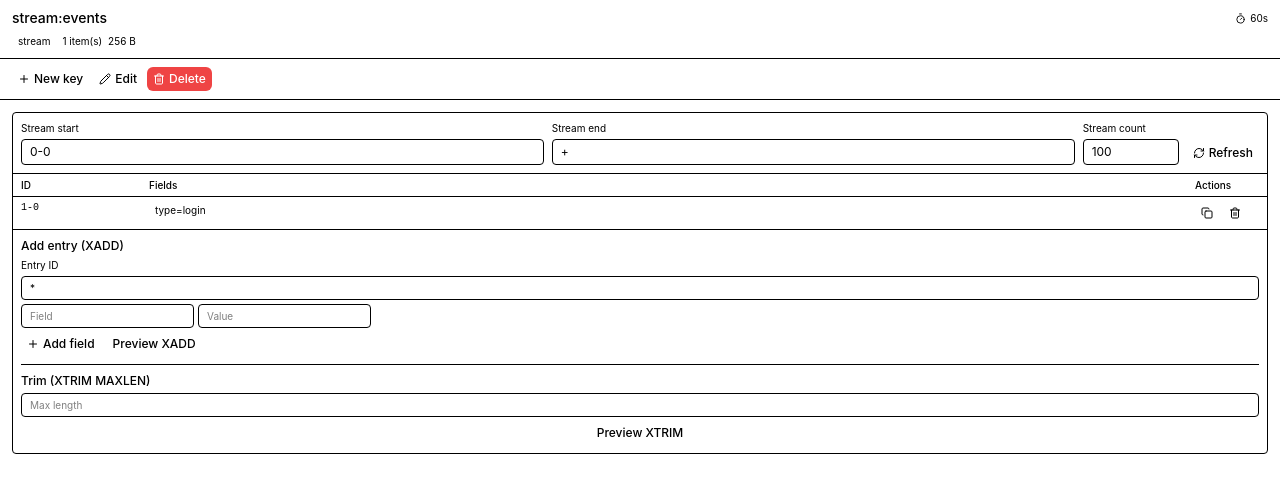
KvKeyDetailPanel › surfaces stream refresh errors without clearing entries
Check: the text "type=login" is shown, box [155,204,206,216]
Click the button with aria-label "refresh stream entries" at coordinates (1223, 153), box [1187,141,1259,165]
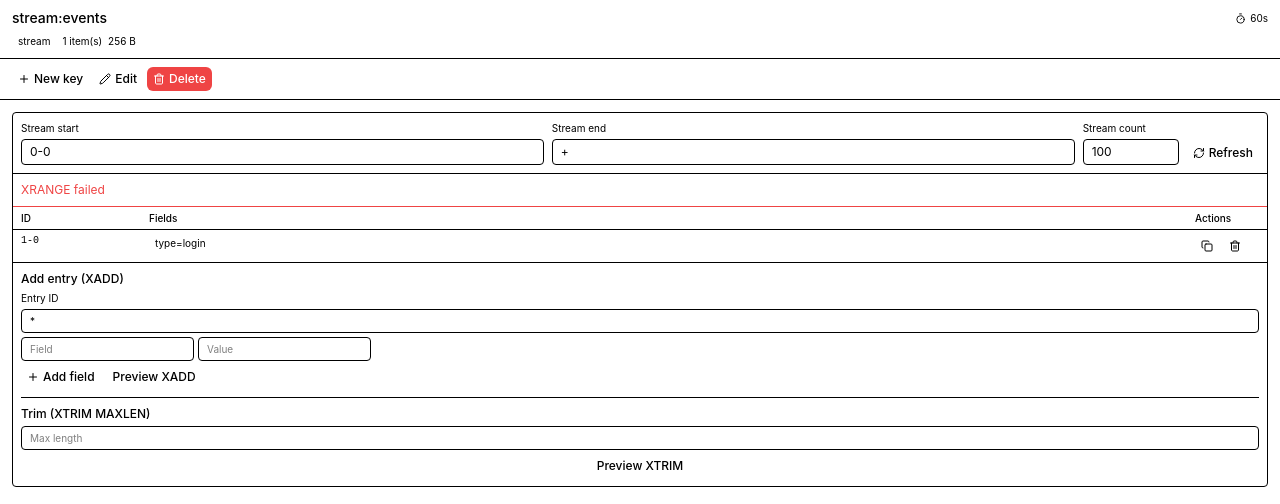
Check: the text "1-0" is shown, box [13,230,141,262]
Check: the text "XRANGE failed" is shown, box [13,174,1267,207]
